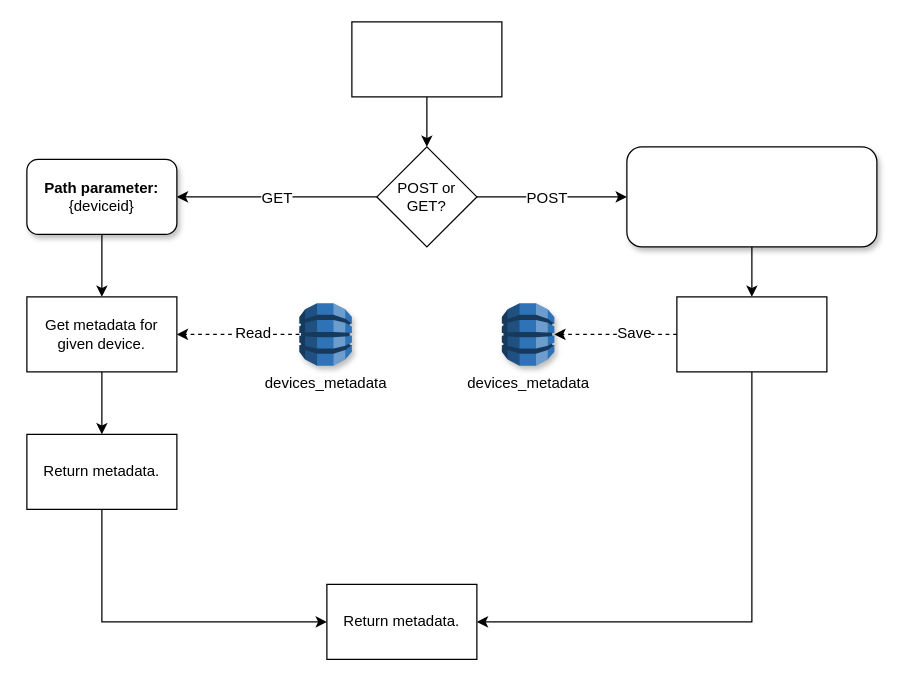
Image size: 906x681. Some labels were removed from this diagram. Here are the shapes that lost their labels. From the top down, the centre of each, then its label:
point (426, 59): START
point (752, 198): Path parameter: {deviceid} Body: {"deviceid":"value", "metadata": "value"}
point (751, 334): Put metadata for given device into database.
